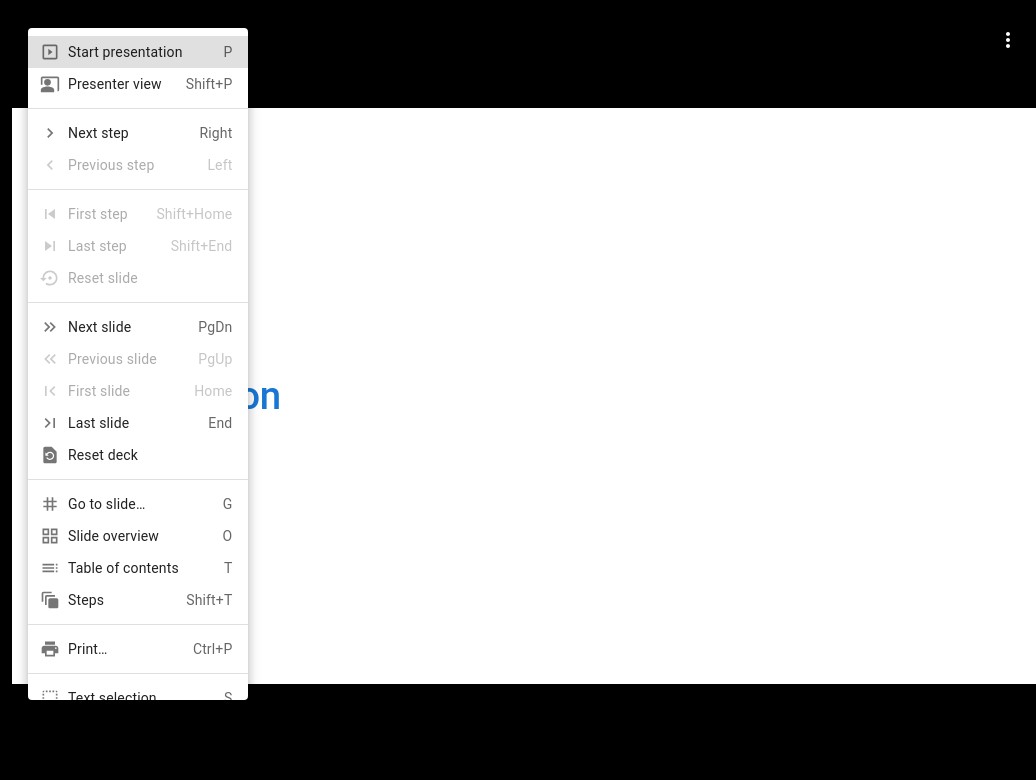
Test: TocList › is shown from the context menu
Click the menu item "Table of contents T".
click(138, 568)  # box left=28, top=552, right=248, bottom=584
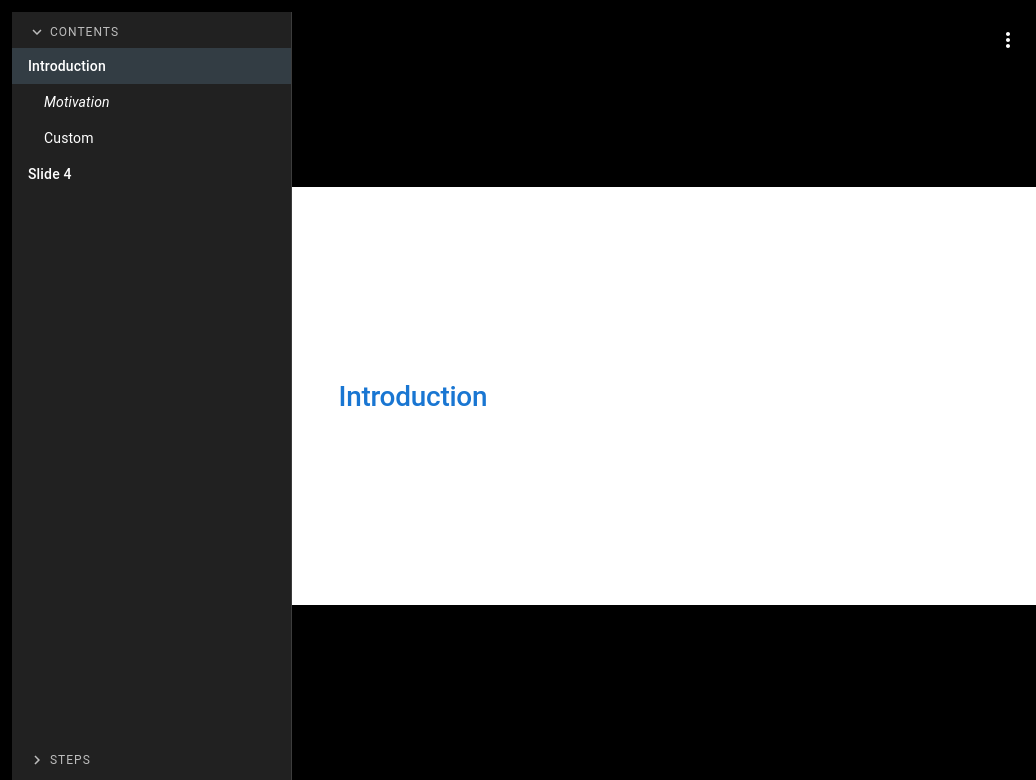
Now the buttons read "Introduction", "Motivation", "Custom", "Slide 4", in this order, box left=12, top=48, right=291, bottom=84; left=44, top=94, right=110, bottom=110; left=44, top=130, right=94, bottom=146; left=28, top=166, right=72, bottom=182
// Collapsing the only expanded section hides the sidebar.
Click the button "Contents".
click(85, 32)  # box left=12, top=12, right=291, bottom=48
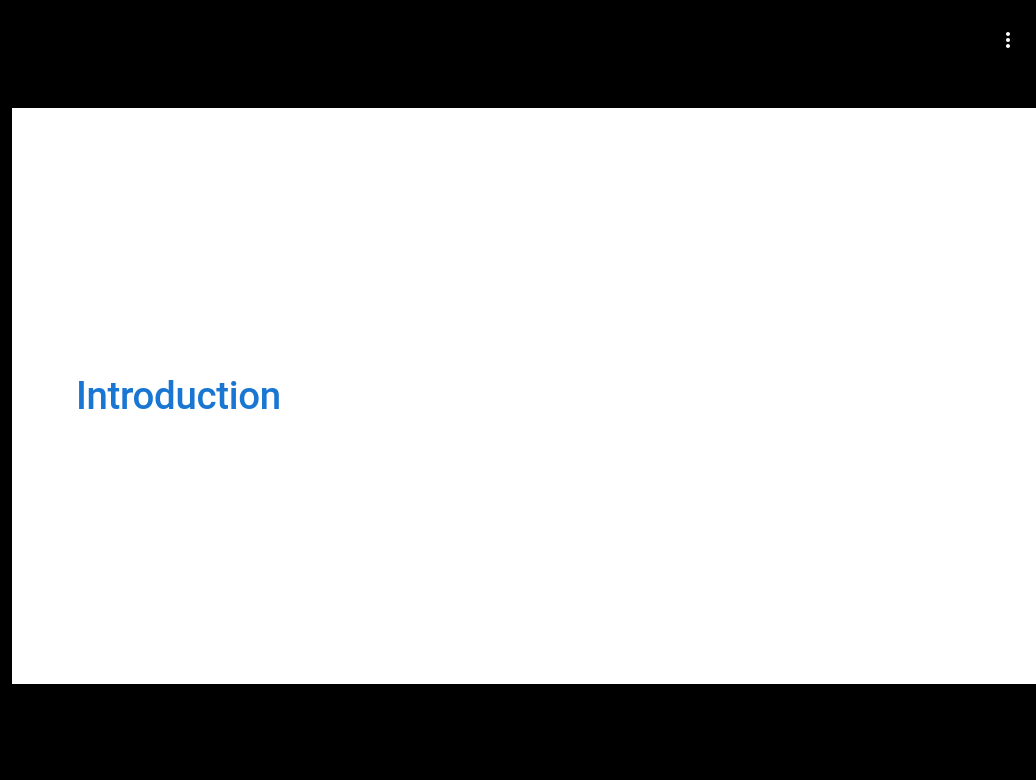
Now the navigation bar is gone
Now the button "Steps" is gone
